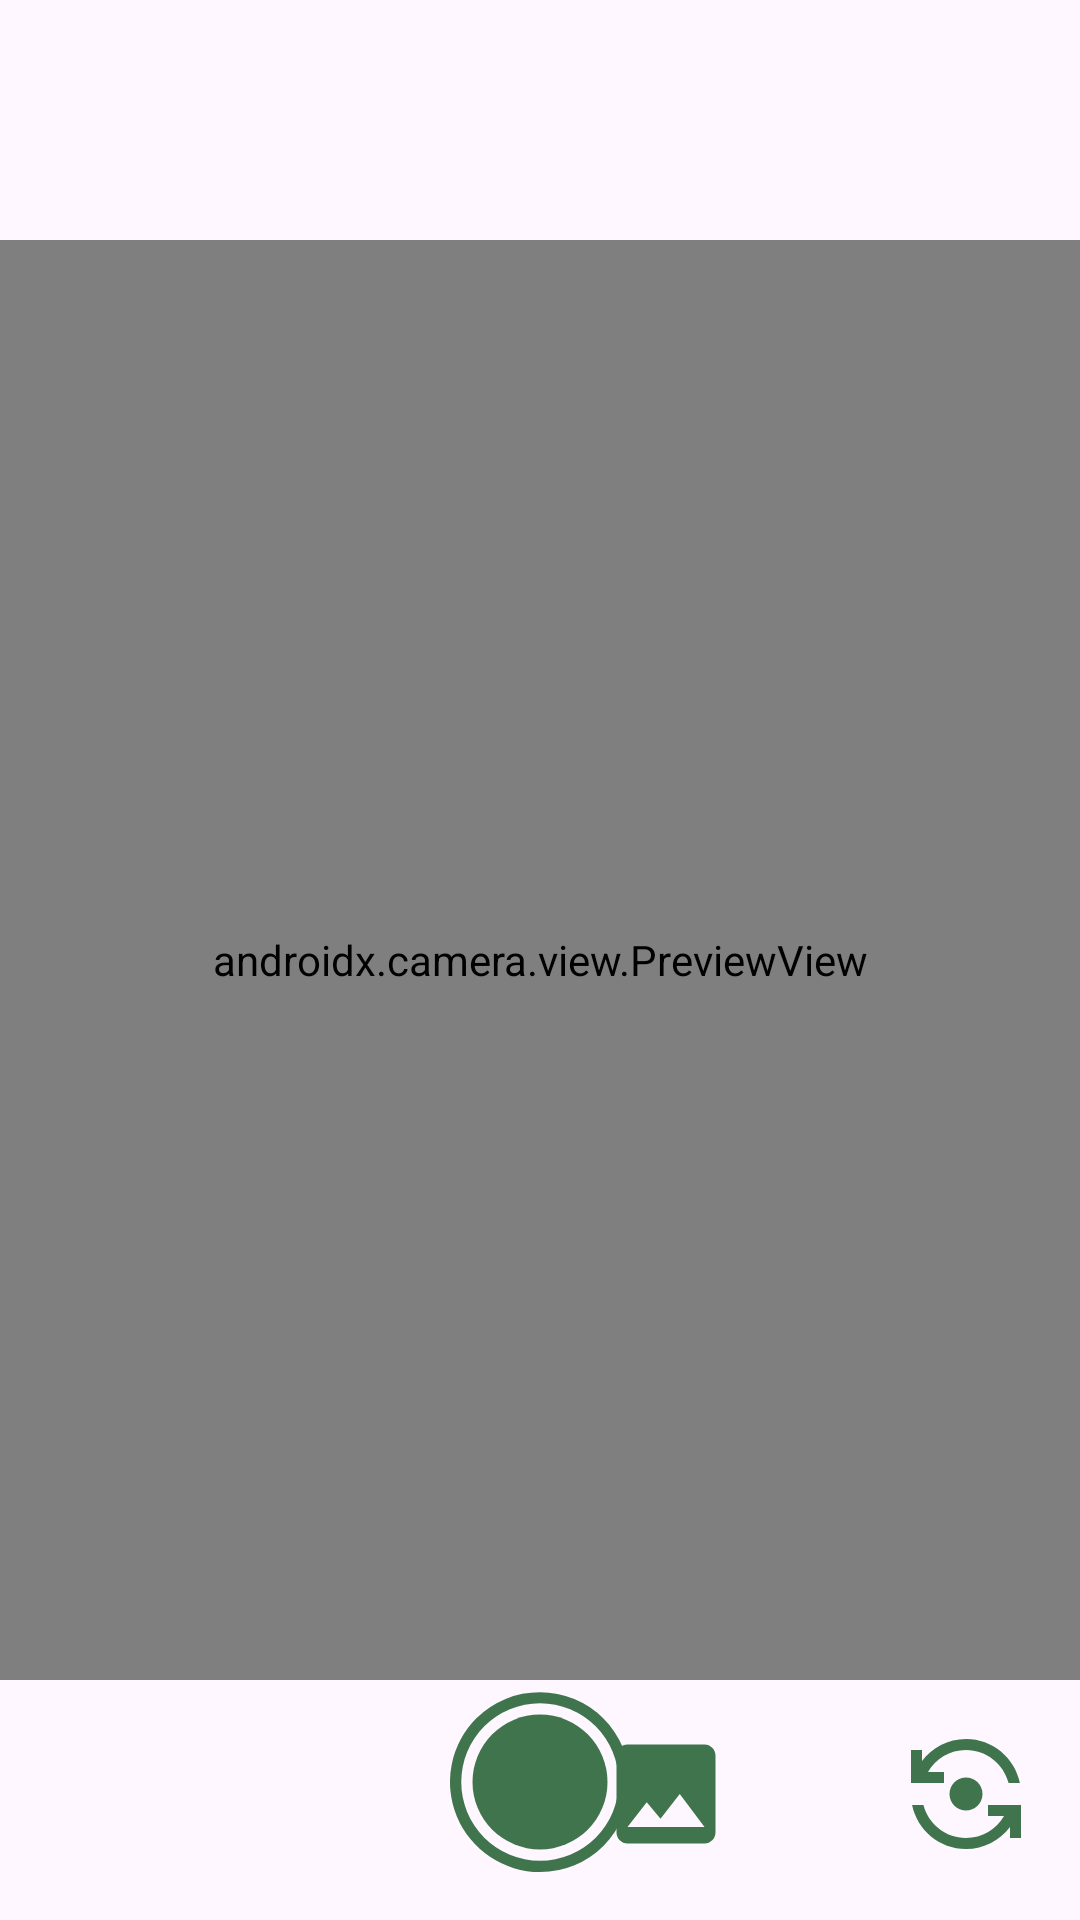

Point at icon controls on the screen. Image size 1080px×1920px, points as [x,y].
flip camera android: [966,1794]
shutter: [540,1782]
